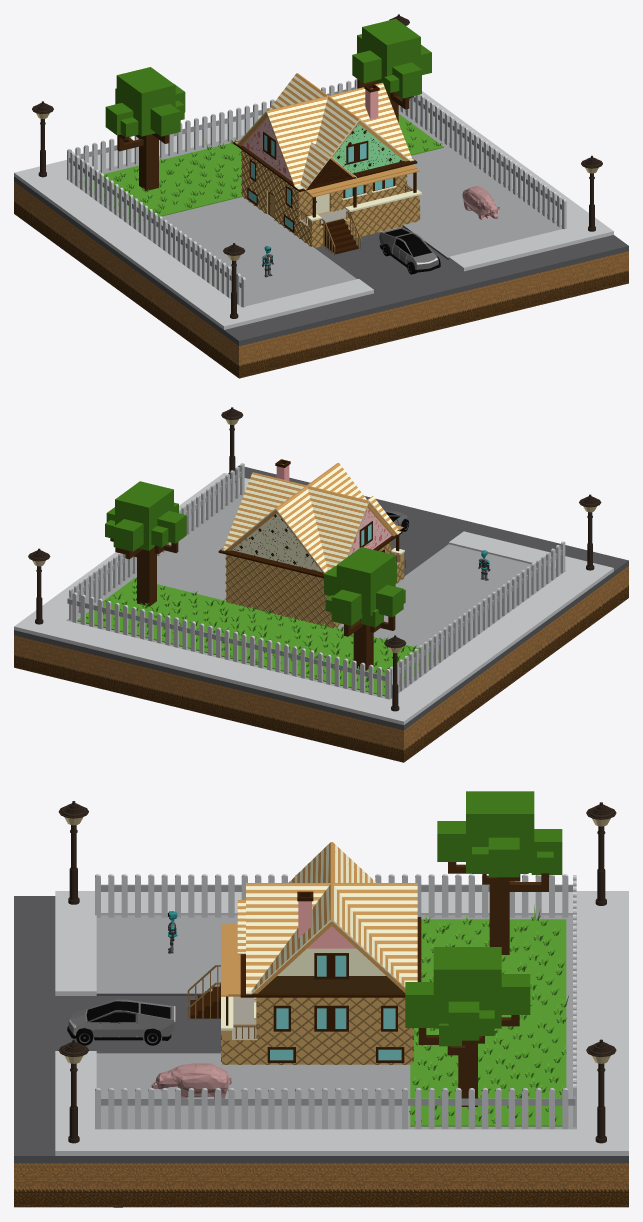
3 renders of one model, top to bottom at view 1: azimuth 30°, elevation 25°; view 2: azimuth 150°, elevation 25°; view 3: azimuth 270°, elevation 25°, orthographic. The views are drawn at different scales.
Visible parts, largest first — view 1: Cube.004, Cube.1102, VEHICLES_CYBERTRUCK, ANIMAL_HIPOPOTAMO; view 2: Cube.004, Cube.1102; view 3: Cube.004, Cube.1102, VEHICLES_CYBERTRUCK, ANIMAL_HIPOPOTAMO.
Boxes of the visible parts, box(x1,y1,x2,y2) form: Cube.004: box(14, 14, 628, 378); Cube.1102: box(233, 73, 422, 255); VEHICLES_CYBERTRUCK: box(379, 227, 440, 274); ANIMAL_HIPOPOTAMO: box(462, 186, 499, 219); Cube.004: box(14, 407, 628, 762); Cube.1102: box(218, 459, 406, 628); Cube.004: box(14, 791, 628, 1207); Cube.1102: box(187, 842, 421, 1064); VEHICLES_CYBERTRUCK: box(67, 999, 175, 1045); ANIMAL_HIPOPOTAMO: box(151, 1063, 231, 1098).
Bounding box in the file's own units: 4000 × 1574 × 4000.
30 materials, 4 textured.
